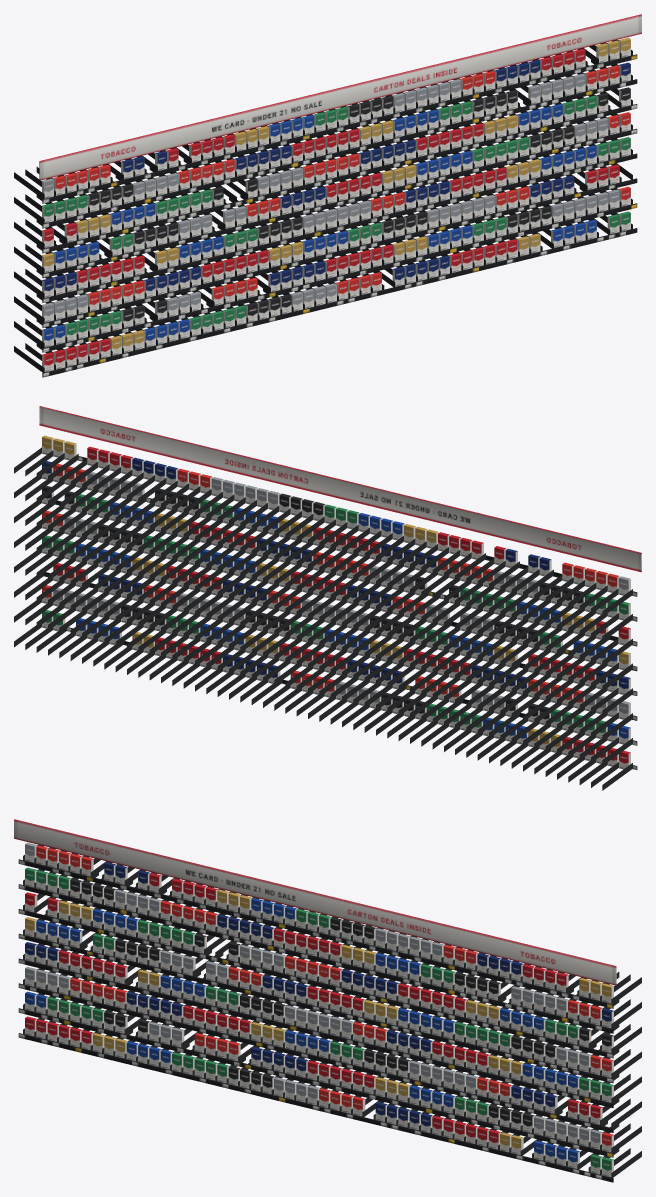
The model's file is SM_Stock_BackBar_Tobacco.glb.
3 renders of one model, top to bottom at view 1: azimuth 30°, elevation 25°; view 2: azimuth 150°, elevation 25°; view 3: azimuth 330°, elevation 25°, orthographic.
Visible parts, largest first — view 1: SM_Stock_BackBar_Tobacco; view 2: SM_Stock_BackBar_Tobacco; view 3: SM_Stock_BackBar_Tobacco.
Boxes of the visible parts, x1,y1,x2,y2 form: SM_Stock_BackBar_Tobacco: (14, 14, 641, 377); SM_Stock_BackBar_Tobacco: (14, 406, 641, 790); SM_Stock_BackBar_Tobacco: (14, 819, 641, 1182).
Bounding box in the file's own units: 3.3 × 1.14 × 0.312.
Materials: 1 (1 with a texture image).
